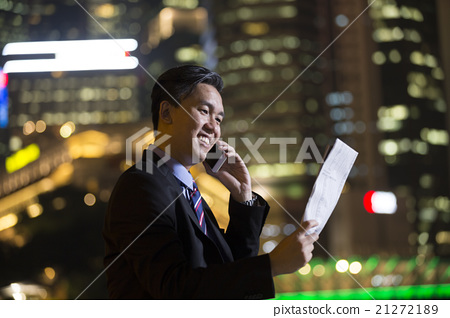phone: (198, 143, 238, 177)
talk: (175, 98, 255, 195)
